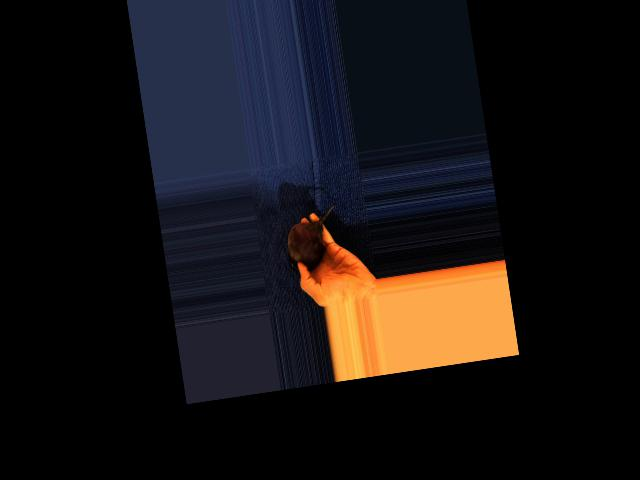beet: (280, 204, 344, 272)
